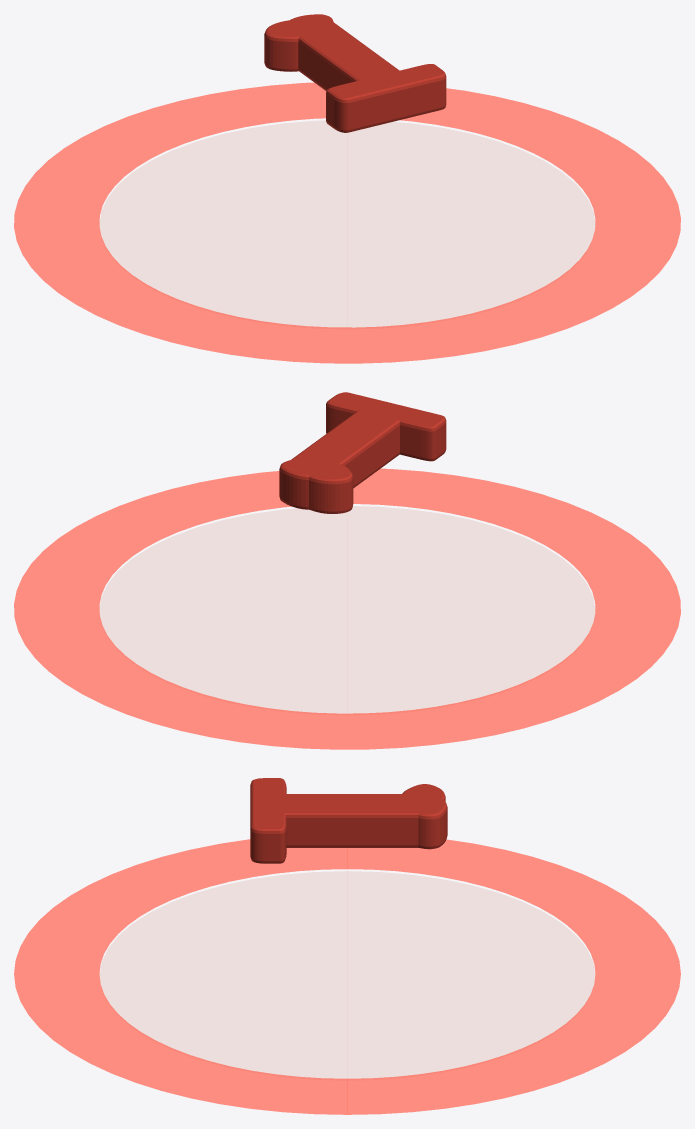
The model's file is pad.glb.
3 views of the same model, one above another, from view 1: azimuth 30°, elevation 25°; view 2: azimuth 150°, elevation 25°; view 3: azimuth 270°, elevation 25° (orthographic).
Parts seen in each view (by area): view 1: Plate, Ring, DigitOneMesh; view 2: Plate, Ring, DigitOneMesh; view 3: Plate, Ring, DigitOneMesh.
Part boxes in pixels (x1,y1,x2,y2): Plate: [99, 120, 595, 328]; Ring: [14, 82, 680, 363]; DigitOneMesh: [264, 14, 446, 132]; Plate: [99, 506, 595, 714]; Ring: [14, 468, 680, 749]; DigitOneMesh: [279, 392, 446, 513]; Plate: [99, 871, 595, 1078]; Ring: [14, 839, 680, 1114]; DigitOneMesh: [250, 778, 447, 863].
Size of the model in its own units: 1.56 by 0.4449 by 1.56.
